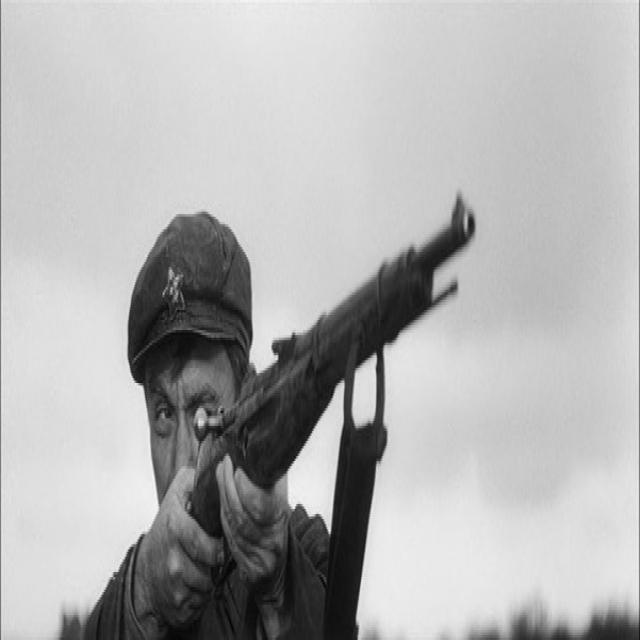rifle: (188, 192, 480, 561)
